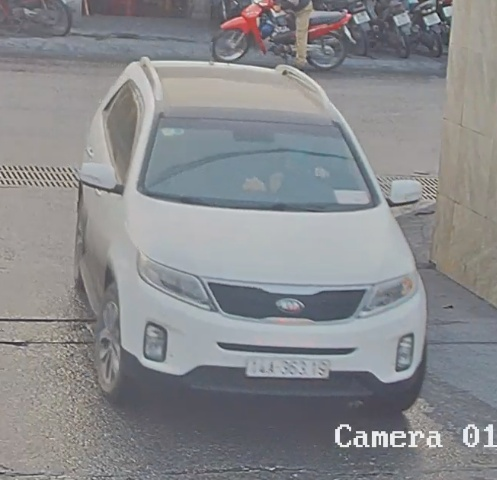vehicle plate: (244, 351, 331, 379)
